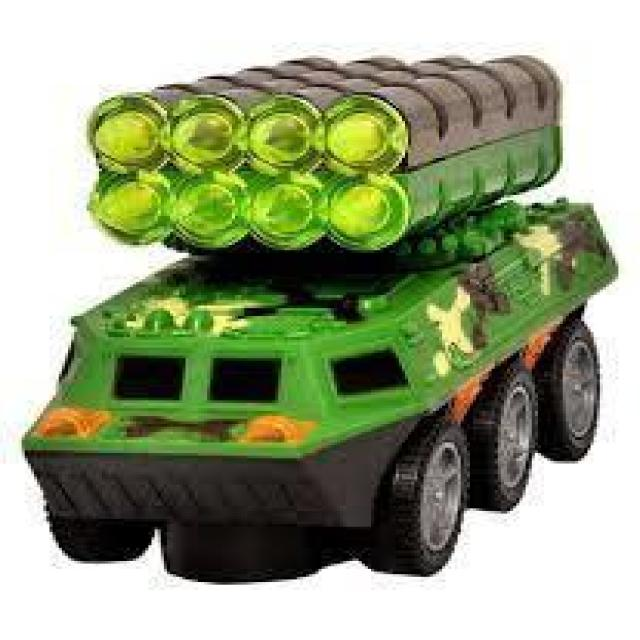Tanks: (28, 99, 609, 554)
